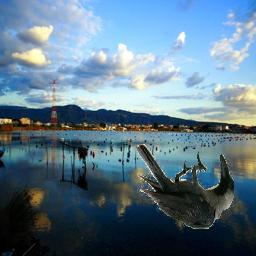Crow: (138, 145, 235, 230)
